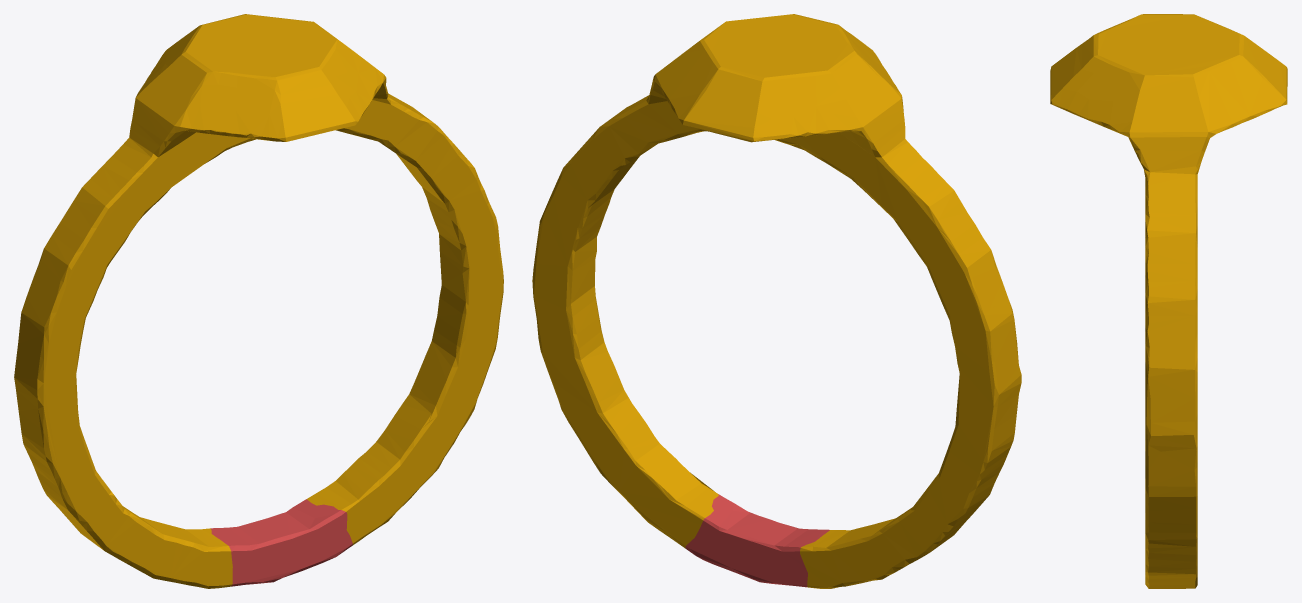
Rendered from fractured_41_2pcs.glb.
The picture shows the model from 3 angles, left to right: view 1: azimuth 30°, elevation 25°; view 2: azimuth 150°, elevation 25°; view 3: azimuth 270°, elevation 25°; orthographic projection.
Parts seen in each view (by area): view 1: piece_0.obj, piece_1.obj; view 2: piece_0.obj, piece_1.obj; view 3: piece_0.obj.
Part boxes in pixels (left/top/right/bottom): piece_0.obj: left=14, top=14, right=503, bottom=588; piece_1.obj: left=210, top=499, right=352, bottom=586; piece_0.obj: left=532, top=14, right=1021, bottom=588; piece_1.obj: left=685, top=494, right=829, bottom=587; piece_0.obj: left=1050, top=14, right=1287, bottom=588.
Bounding box in the file's own units: 0.925 × 1 × 0.413.
